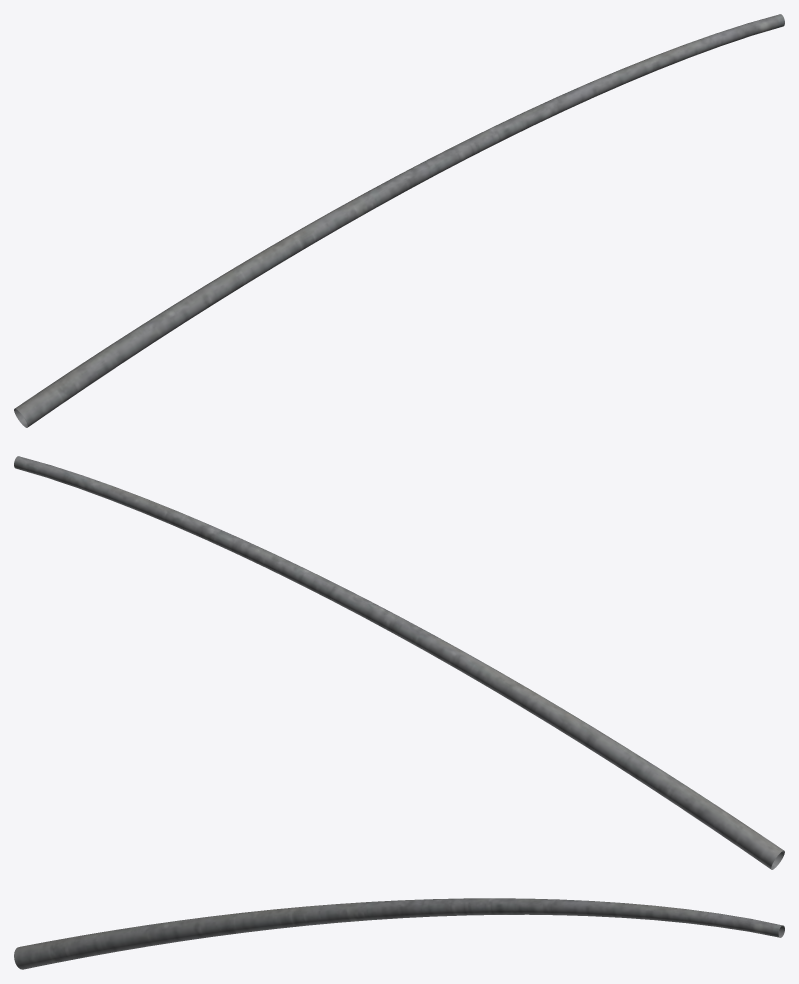
Rendered from armRise2-v1-galvanised.glb.
3 renders of one model, top to bottom at view 1: azimuth 30°, elevation 25°; view 2: azimuth 150°, elevation 25°; view 3: azimuth 330°, elevation 25°, orthographic.
Parts seen in each view (by area): view 1: armRise2-v1-galvanised; view 2: armRise2-v1-galvanised; view 3: armRise2-v1-galvanised.
Boxes of the visible parts, x1,y1,x2,y2 form: armRise2-v1-galvanised: (14,14,784,427); armRise2-v1-galvanised: (14,456,784,869); armRise2-v1-galvanised: (14,898,784,969).
Size of the model in its own units: 7.66 by 2.18 by 0.2.
1 material, 1 textured.
